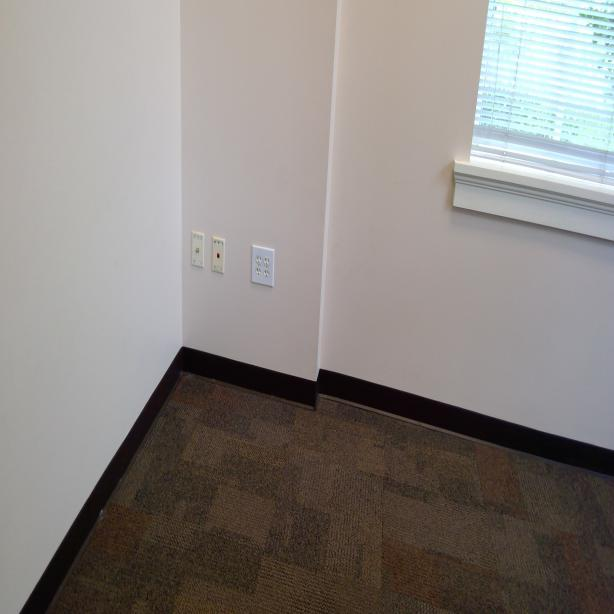typeb: (255, 252, 262, 266), (255, 265, 262, 279), (263, 268, 270, 282), (264, 257, 270, 267)
